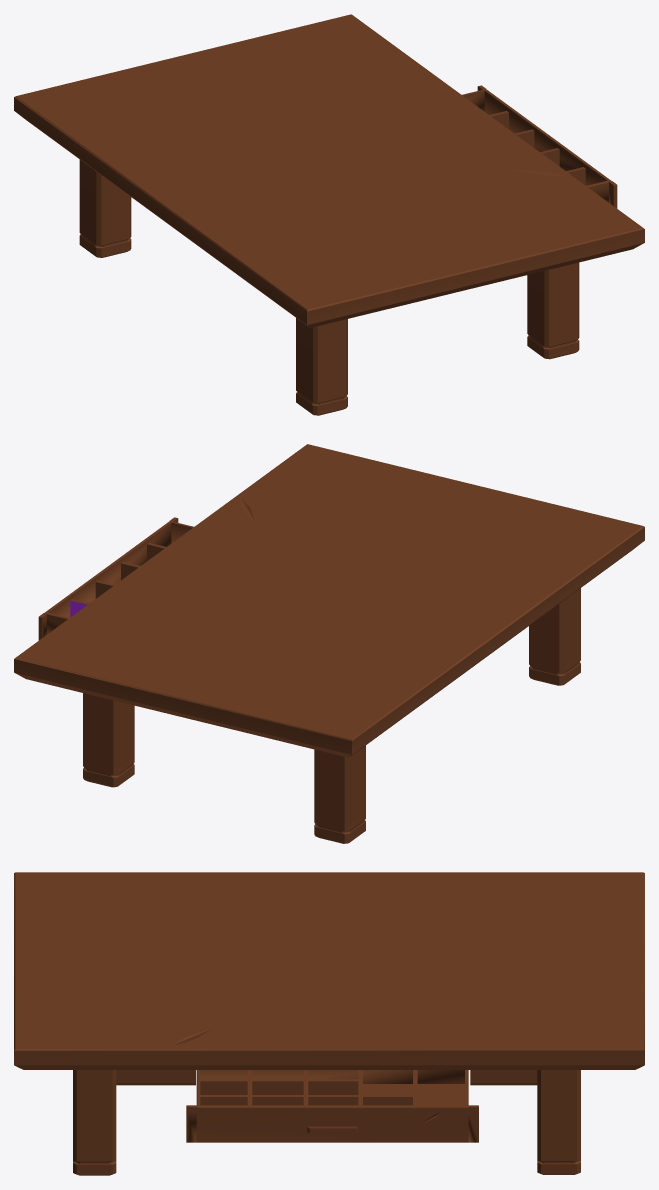
Rendered from Table.fbx.
The picture shows the model from 3 angles, top to bottom: view 1: azimuth 30°, elevation 25°; view 2: azimuth 150°, elevation 25°; view 3: azimuth 270°, elevation 25°; orthographic projection. The views are drawn at different scales.
Visible parts, largest first — view 1: leg, drawer; view 2: leg, drawer; view 3: leg, drawer.
Part boxes in pixels (box(x1,y1,x2,y2)): leg: box(14, 14, 644, 415); drawer: box(462, 85, 617, 208); leg: box(14, 444, 644, 843); drawer: box(38, 517, 193, 640); leg: box(14, 872, 644, 1175); drawer: box(186, 1070, 478, 1142).
Size of the model in its own units: 1118 by 368 by 1437.
